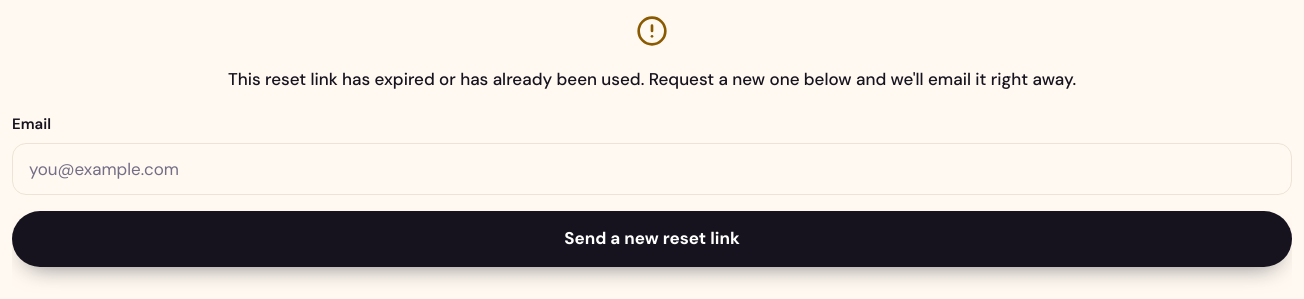
Test: password reset link › offers a way to get a new link, and sends it
The image size is (1304, 299).
Check: the text "expired or has already been used" is shown, box [228,68,1076,90]
In the field labelled "Email": (652, 169) [12,143,1292,195], type "seller@example.com"
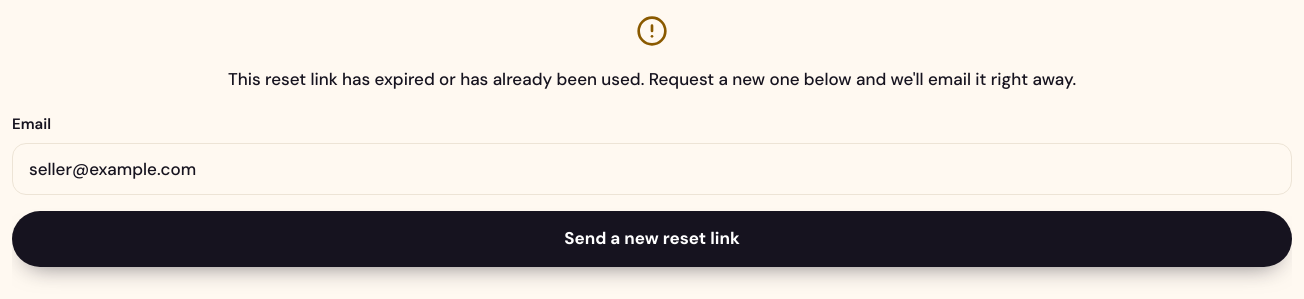
Click the button "Send a new reset link": click(652, 239) [12,211,1292,267]
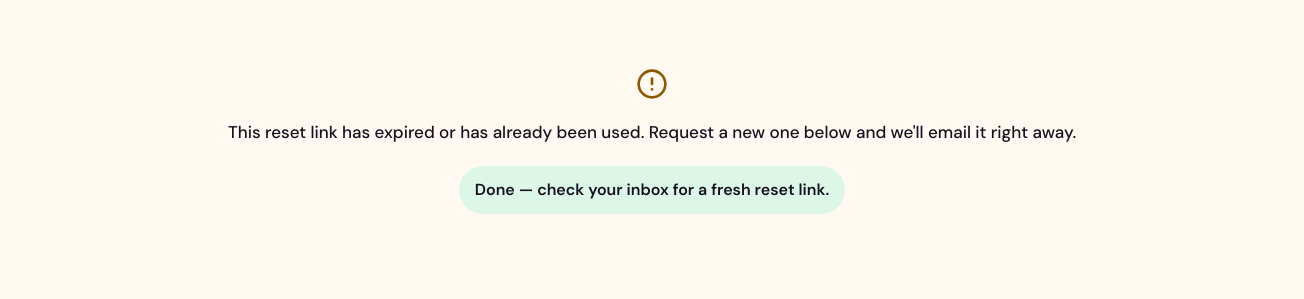
Check: the text "Done — check your inbox for a fresh reset link." is shown, box [459,166,845,214]
